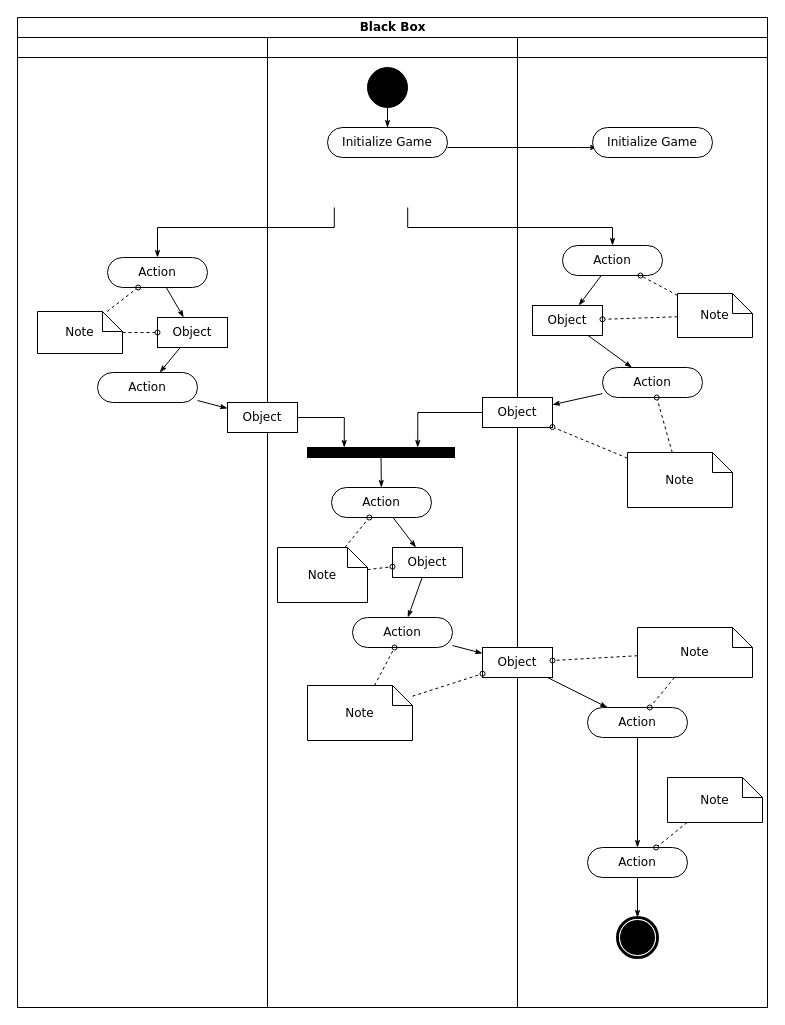
The diagram is 785 pixels wide and 1025 high, and some of its shapes have lost their labels. Here are the shapes that lost their labels. From the top down, the box of each, then its label:
(16, 36, 268, 1008): View
(266, 36, 518, 1008): Controller
(516, 36, 768, 1008): Model
